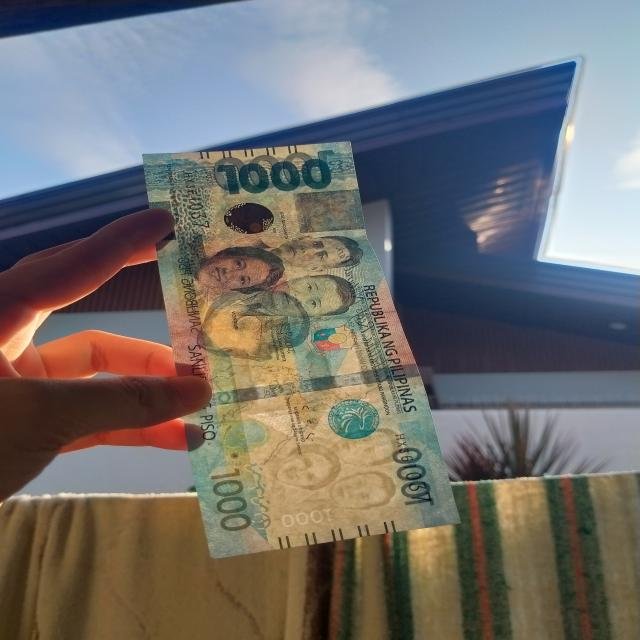concealed_value: (293, 189, 362, 232)
optically_variable_device: (209, 194, 288, 238)
security_thread: (208, 363, 422, 408)
see_through_mark: (241, 461, 274, 532)
value_watermark: (278, 506, 340, 528)
watermark: (276, 428, 406, 509)
